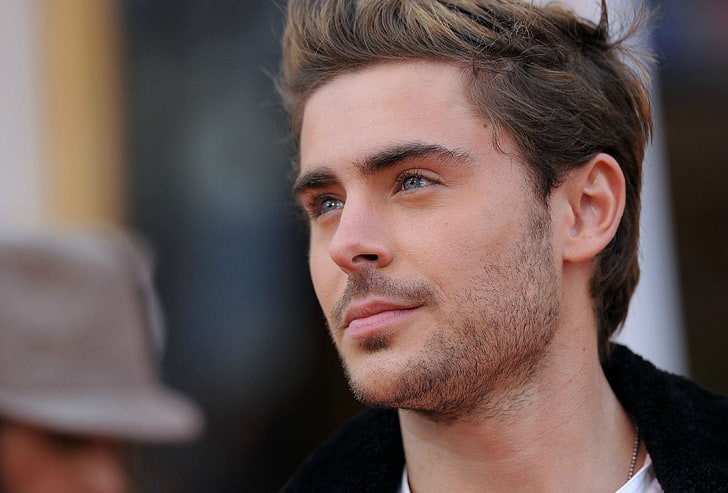bare: (307, 224, 543, 402)
